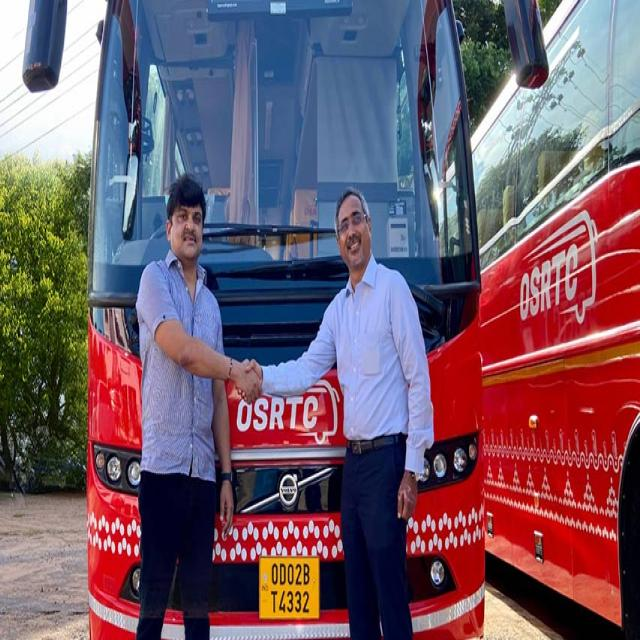bus: (88, 0, 484, 638)
